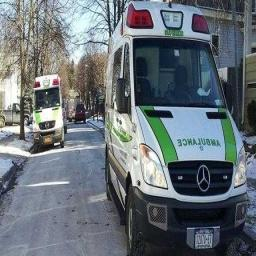ambulance: (105, 1, 247, 255), (33, 74, 64, 150)
